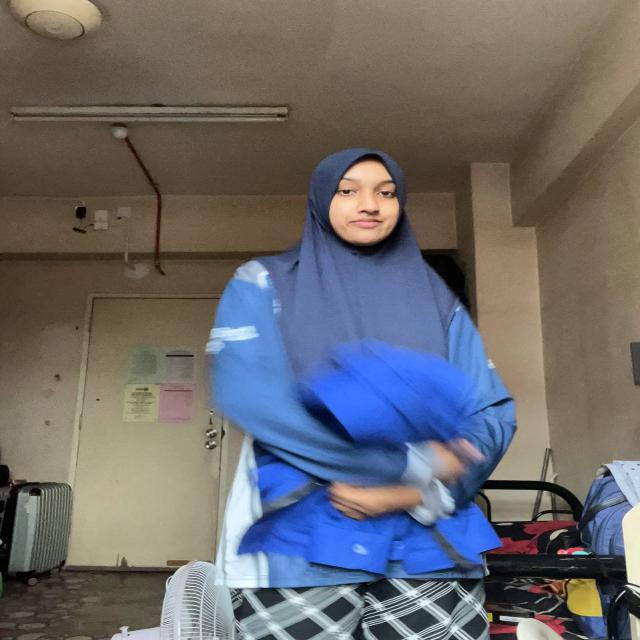person_with_labcoat: (207, 148, 516, 640)
person_without_labcoat: (207, 148, 516, 640)
